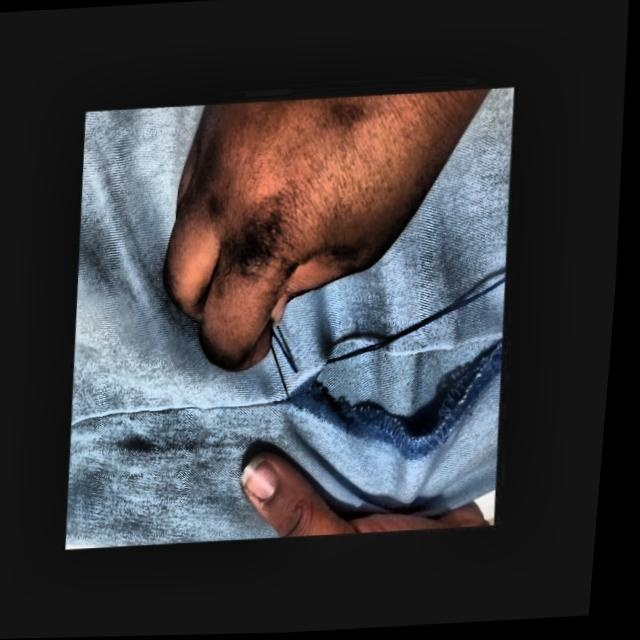seam: (271, 284, 521, 488)
